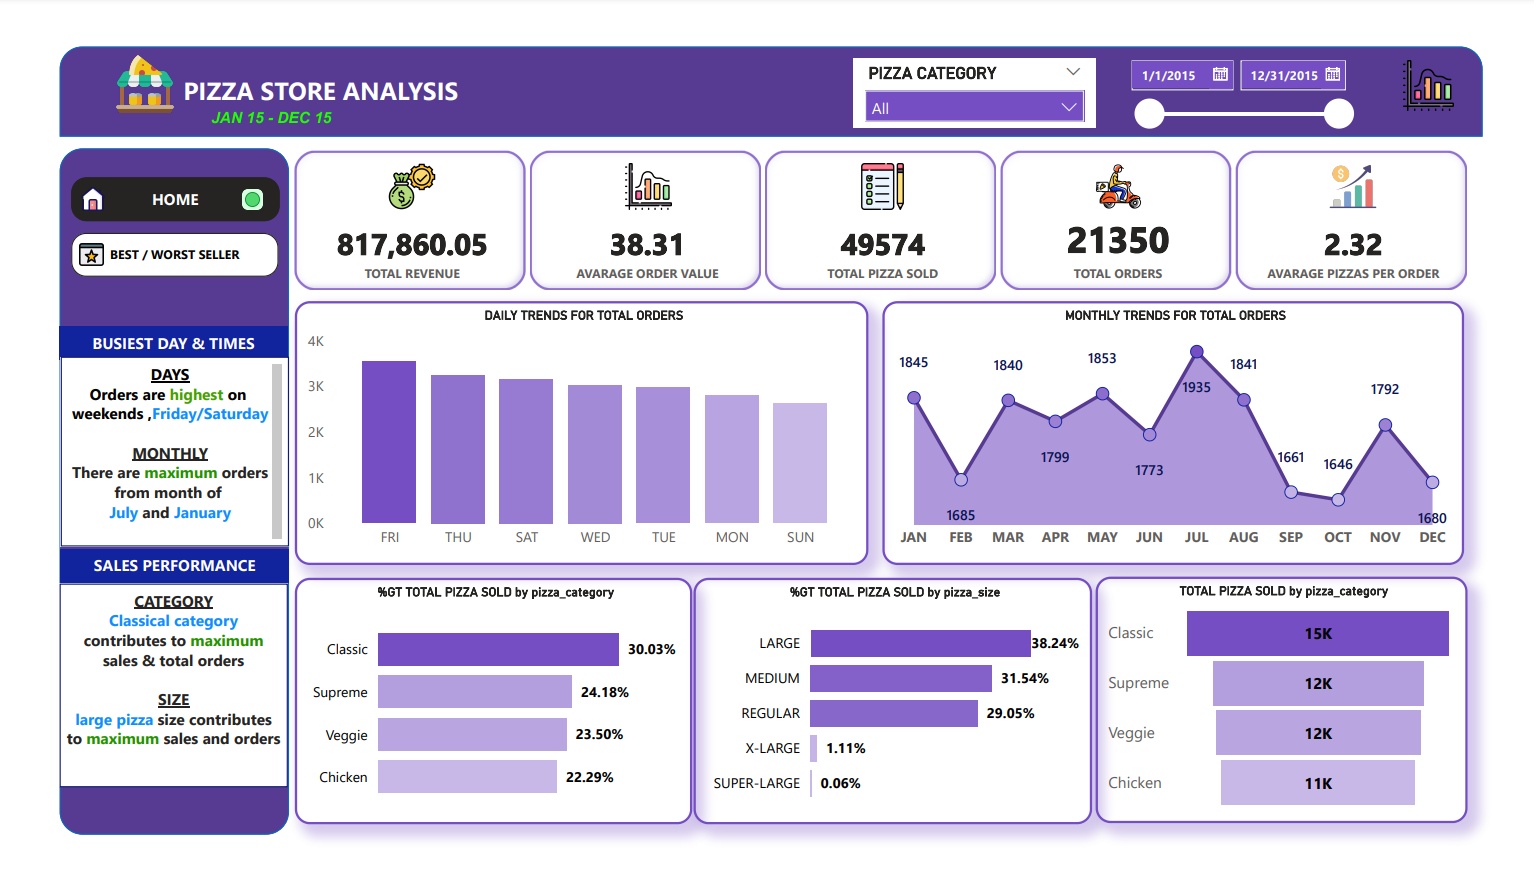

What the dashboard file says about the page in this screenshot:
{"tool":"powerbi","page":{"name":"HOME","canvas":[1280,720],"ordinal":0},"visuals":[{"type":"shape","box":[29.9,105.2,197.9,592.7],"z":0},{"type":"cardVisual","fields":{"Data":["PIZZA_SALES.TOTAL REVENUE","PIZZA_SALES.AVARAGE ORDER VALUE","PIZZA_SALES.TOTAL PIZZA SOLD","PIZZA_SALES.TOTAL ORDERS","PIZZA_SALES.AVARAGE PIZZAS PER ORDER"]},"box":[228.8,105.2,1023.2,126.5],"z":1000},{"type":"shape","box":[29.9,17.4,1227.9,77.2],"z":2000},{"type":"textbox","box":[129.9,34.9,250.7,41.2],"z":3000},{"type":"image","box":[65.6,20.3,74.3,58.9],"z":4000},{"type":"image","box":[1181.1,24.4,61.1,52.2],"z":5000},{"type":"textbox","box":[155.8,63.6,154,30.4],"z":6000},{"type":"columnChart","title":"DAILY TRENDS FOR TOTAL ORDERS","fields":{"Y":["PIZZA_SALES.TOTAL ORDERS"],"Category":["PIZZA_SALES.ORDER DAY"]},"box":[232.6,236.5,495.2,228.8],"z":7000},{"type":"areaChart","title":"MONTHLY TRENDS FOR TOTAL ORDERS","fields":{"Category":["PIZZA_SALES.ORDER MONTH"],"Y":["PIZZA_SALES.TOTAL ORDERS"]},"box":[740,237,502,228],"z":8000},{"type":"funnel","fields":{"Y":["PIZZA_SALES.TOTAL PIZZA SOLD"],"Category":["PIZZA_SALES.pizza_category"]},"box":[923.8,474.9,321.4,213.3],"z":9000},{"type":"barChart","fields":{"Y":["PIZZA_SALES.TOTAL PIZZA SOLD"],"Category":["PIZZA_SALES.pizza_category"]},"box":[232.6,475.9,343.7,213.3],"z":10000},{"type":"barChart","fields":{"Y":["PIZZA_SALES.TOTAL PIZZA SOLD"],"Category":["PIZZA_SALES.pizza_size"]},"box":[577.3,475.9,343.7,213.3],"z":11000},{"type":"textbox","box":[29.9,258.7,196.9,29],"z":12000},{"type":"textbox","box":[30.9,284.7,196.9,164.1],"z":13000},{"type":"textbox","box":[29.9,480.7,196.9,176.7],"z":14000},{"type":"textbox","box":[30.9,450.8,196.9,29],"z":15000},{"type":"slicer","fields":{"Values":["PIZZA_SALES.pizza_category"]},"box":[715.3,27,208.5,59.8],"z":16000},{"type":"slicer","fields":{"Values":["PIZZA_SALES.order_date"]},"box":[942.1,19.3,213.3,73.4],"z":17000},{"type":"pageNavigator","box":[39.6,130.3,180,38.6],"z":18000},{"type":"pageNavigator","box":[39.6,177.6,179.5,38.6],"z":19000},{"type":"image","box":[40.5,134.2,36.7,29.9],"z":20000},{"type":"image","box":[41.5,173.8,31.9,44.4],"z":21000},{"type":"image","box":[182.4,132.2,29,33.8],"z":22000}]}

Visuals, with their boxes in screenshot pixels (x1, y1, x2, y2), scaled from the page's 1280x720 canvas onto the 1534x886 screenshot:
shape: bbox=[36, 129, 273, 859]
cardVisual - PIZZA_SALES.TOTAL REVENUE x PIZZA_SALES.AVARAGE ORDER VALUE: bbox=[274, 129, 1500, 285]
shape: bbox=[36, 21, 1507, 116]
textbox: bbox=[156, 43, 456, 94]
image: bbox=[79, 25, 168, 97]
image: bbox=[1415, 30, 1489, 94]
textbox: bbox=[187, 78, 371, 116]
"DAILY TRENDS FOR TOTAL ORDERS" columnChart: bbox=[279, 291, 872, 573]
"MONTHLY TRENDS FOR TOTAL ORDERS" areaChart: bbox=[887, 292, 1488, 572]
funnel - PIZZA_SALES.TOTAL PIZZA SOLD x PIZZA_SALES.pizza_category: bbox=[1107, 584, 1492, 847]
barChart - PIZZA_SALES.TOTAL PIZZA SOLD x PIZZA_SALES.pizza_category: bbox=[279, 586, 691, 848]
barChart - PIZZA_SALES.TOTAL PIZZA SOLD x PIZZA_SALES.pizza_size: bbox=[692, 586, 1104, 848]
textbox: bbox=[36, 318, 272, 354]
textbox: bbox=[37, 350, 273, 552]
textbox: bbox=[36, 592, 272, 809]
textbox: bbox=[37, 555, 273, 590]
slicer - PIZZA_SALES.pizza_category: bbox=[857, 33, 1107, 107]
slicer - PIZZA_SALES.order_date: bbox=[1129, 24, 1385, 114]
pageNavigator: bbox=[47, 160, 263, 208]
pageNavigator: bbox=[47, 219, 263, 266]
image: bbox=[49, 165, 93, 202]
image: bbox=[50, 214, 88, 269]
image: bbox=[219, 163, 253, 204]
